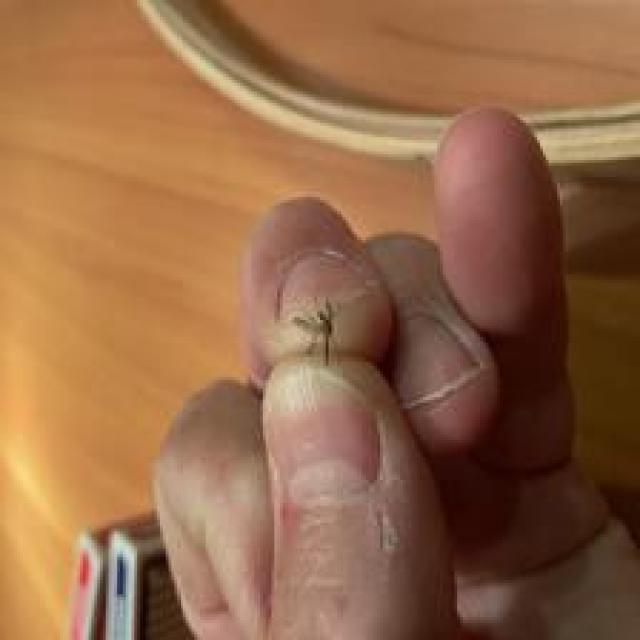Culex: (131, 0, 640, 180)
